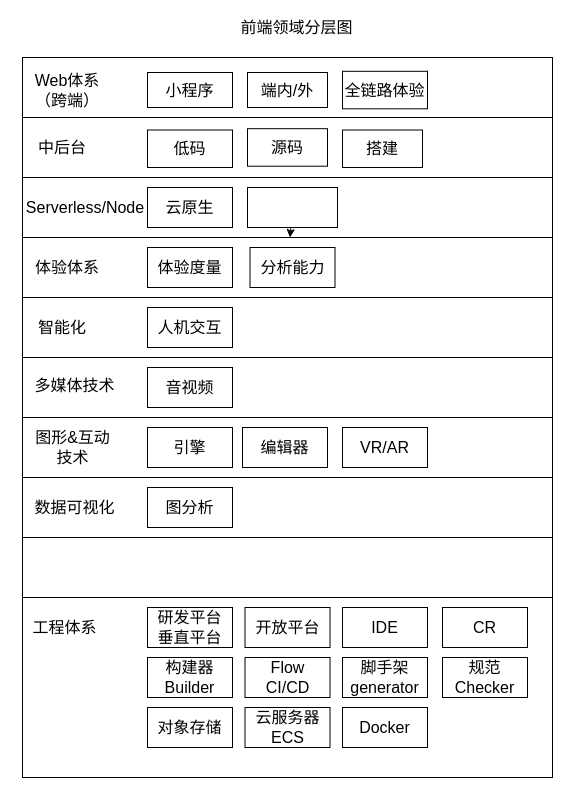
Image size: 570x795. Some labels were removed from this diagram. Each missing label, with the box of its shape:
IOT: (22, 536, 552, 598)
运维/研发: (246, 186, 338, 228)
